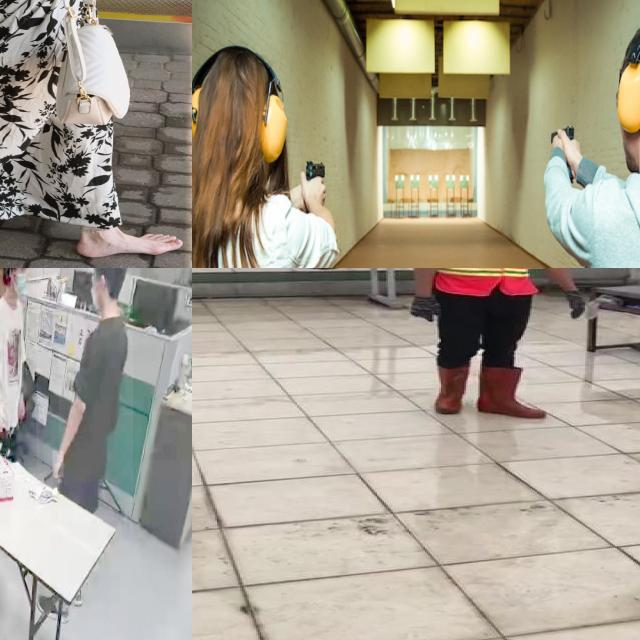Barefoots: (76, 233, 183, 258)
Ear-protection: (192, 46, 292, 205), (613, 18, 640, 195)
boots: (476, 364, 546, 420), (430, 363, 468, 416)
face_mask: (9, 268, 32, 298)
hand_noglove: (52, 451, 64, 478), (16, 396, 26, 420)
person: (192, 40, 344, 268), (406, 268, 597, 425), (538, 9, 640, 268), (58, 268, 133, 521), (0, 268, 37, 468)
shoes: (34, 590, 70, 622)
vest: (436, 268, 546, 295)
